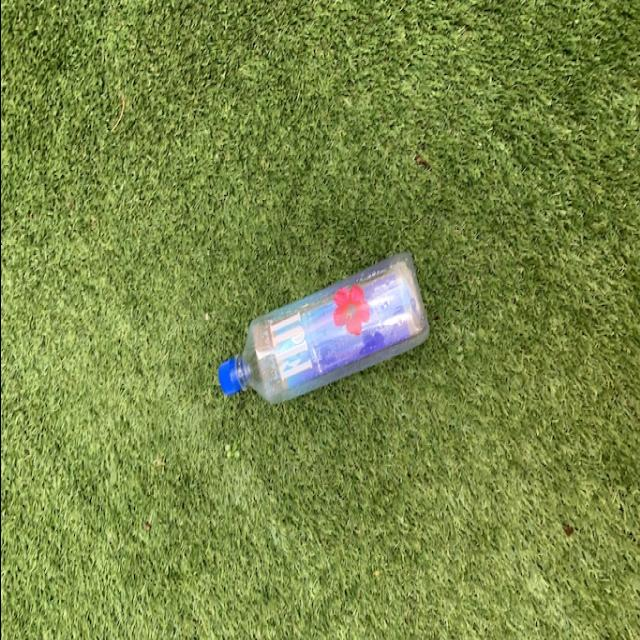PET: (220, 256, 427, 416)
